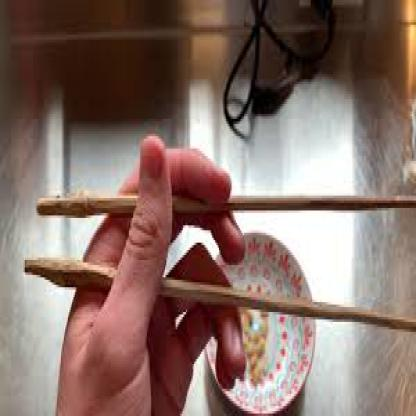chopstick: (20, 258, 414, 336), (33, 193, 415, 216)
